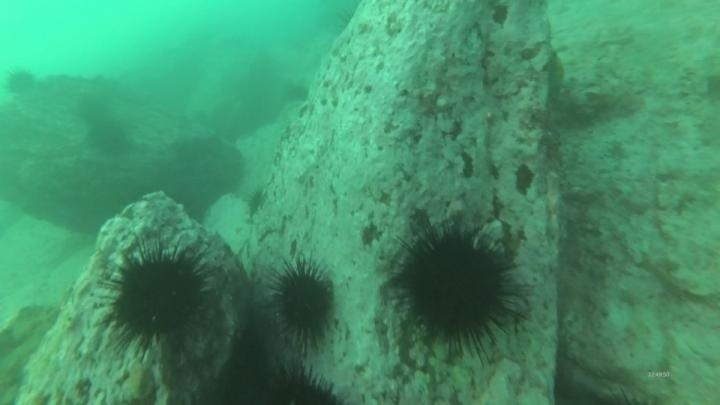echinus: (393, 221, 526, 357), (104, 242, 213, 352), (270, 259, 339, 347), (253, 360, 349, 405), (86, 120, 130, 157), (4, 67, 38, 98), (284, 77, 318, 108)
